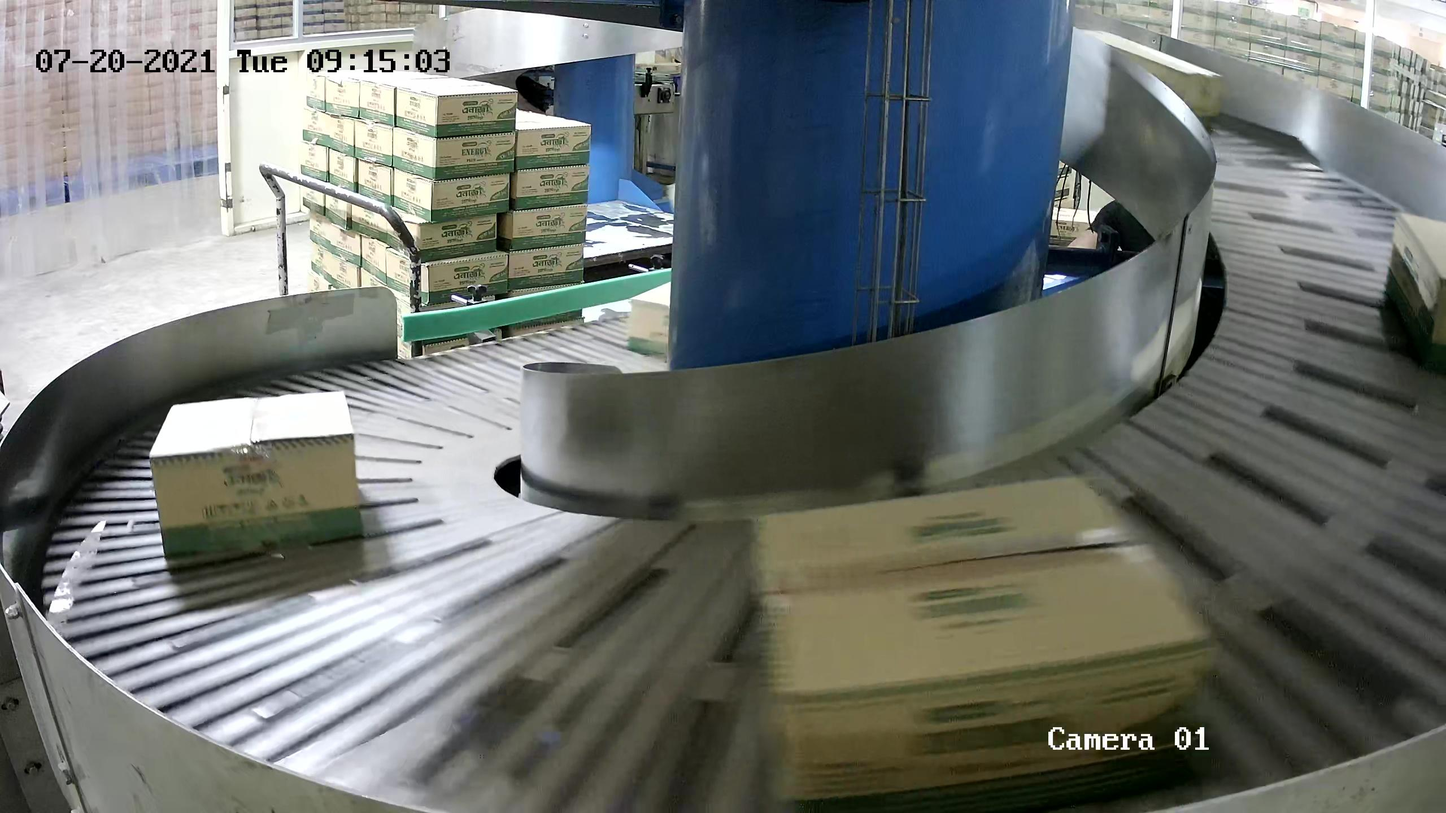Box: (746, 473, 1221, 813), (149, 389, 365, 557), (1076, 28, 1223, 124), (1385, 211, 1446, 368), (626, 281, 671, 354)
